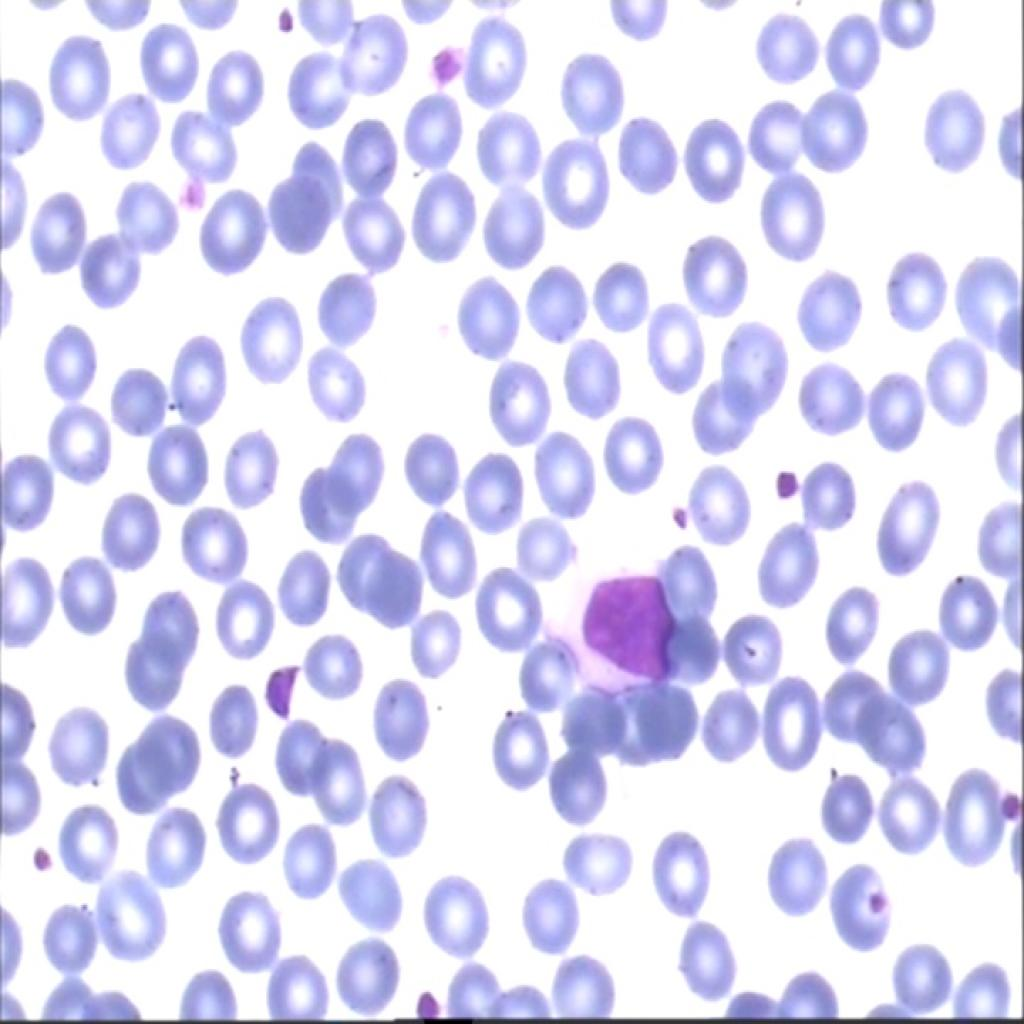Monosit: (549, 546, 681, 695)
Platelet: (764, 446, 812, 521), (18, 832, 76, 892), (421, 36, 466, 98), (253, 0, 306, 48), (172, 172, 211, 217), (402, 985, 448, 1022), (992, 775, 1022, 827), (670, 492, 691, 537), (866, 891, 886, 919)
